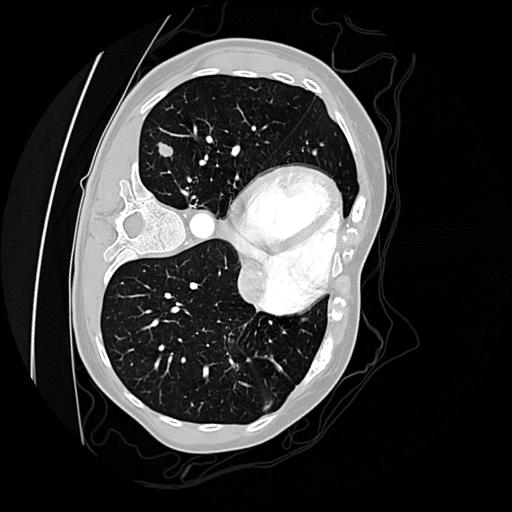nodule: (155, 141, 178, 164)
